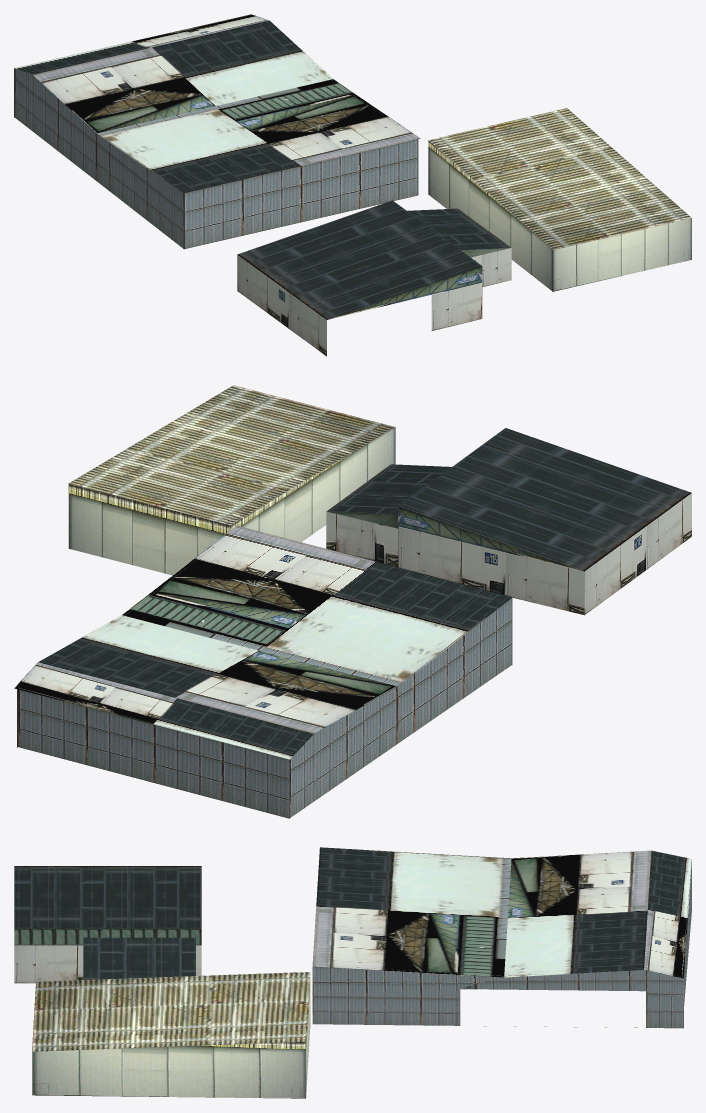
The model's file is fnahangars.dae.
3 views of the same model, one above another, from view 1: azimuth 30°, elevation 25°; view 2: azimuth 150°, elevation 25°; view 3: azimuth 270°, elevation 25° (orthographic). The views are drawn at different scales.
Parts seen in each view (by area): view 1: node2, node3; view 2: node2, node3; view 3: node2, node3.
Part boxes in pixels (x1,y1,x2,y2): node2: (14, 14, 511, 356); node3: (428, 108, 691, 291); node2: (14, 428, 691, 818); node3: (68, 385, 395, 575); node2: (14, 847, 691, 1028); node3: (32, 972, 310, 1098).
Bounding box in the file's own units: 48.96 × 7.03 × 72.32.
Materials: 2 (2 with a texture image).
